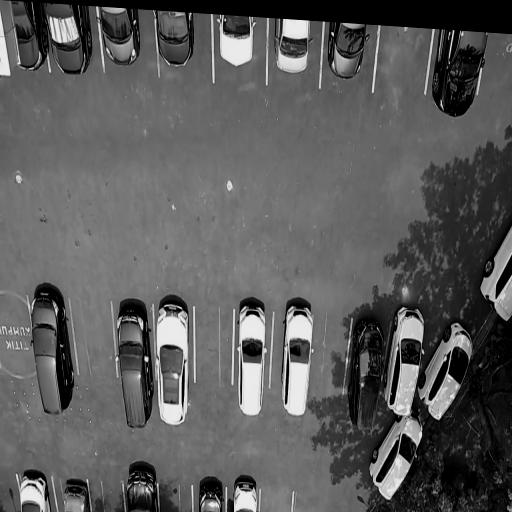Car: (414, 307, 482, 428), (363, 403, 431, 507), (26, 281, 75, 421), (426, 29, 495, 124), (341, 306, 391, 430), (379, 299, 430, 420), (111, 292, 153, 433), (155, 291, 191, 429), (277, 301, 316, 421), (234, 295, 271, 418), (38, 3, 94, 84), (472, 219, 512, 327), (96, 6, 142, 70), (325, 22, 373, 82), (150, 10, 196, 70), (271, 18, 315, 79), (9, 3, 47, 70), (214, 14, 257, 67), (122, 457, 158, 512), (16, 468, 53, 512), (58, 471, 90, 512), (197, 473, 226, 512), (231, 474, 259, 512)
Space Available: (371, 25, 434, 96), (70, 296, 114, 381), (310, 312, 351, 399), (194, 305, 233, 395), (0, 299, 34, 372), (86, 481, 123, 512), (257, 485, 293, 512), (155, 485, 191, 512), (0, 474, 21, 512)
